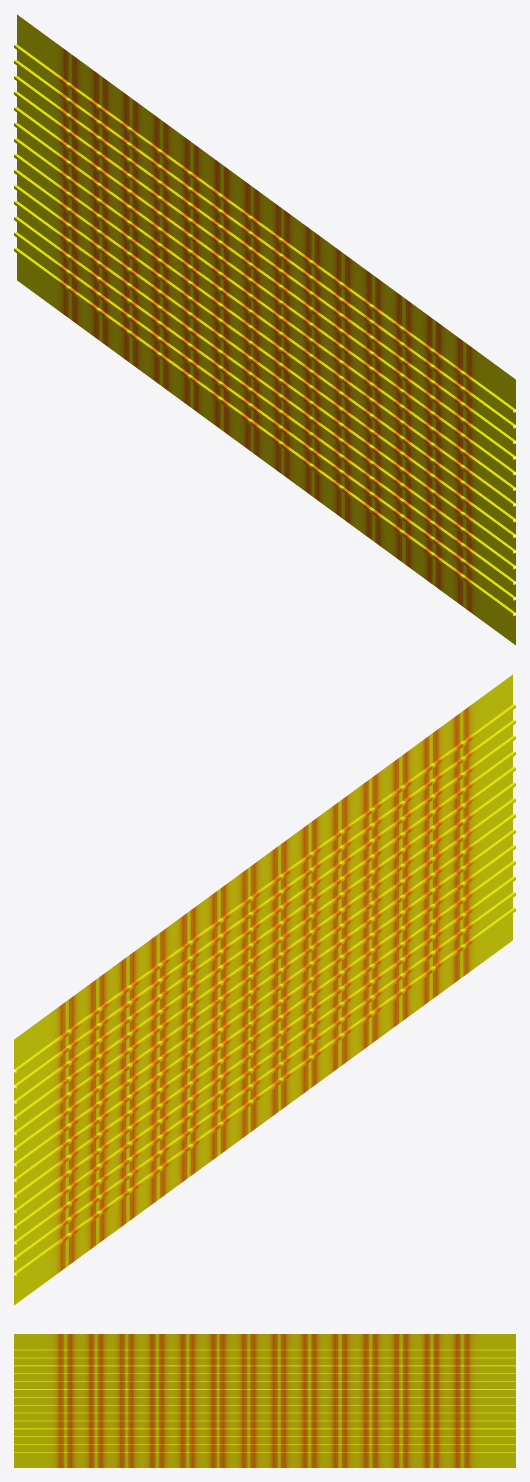
The model's file is RB_Walls_2_2.fbx.
3 renders of one model, top to bottom at view 1: azimuth 30°, elevation 25°; view 2: azimuth 150°, elevation 25°; view 3: azimuth 270°, elevation 25°, orthographic. The views are drawn at different scales.
Visible parts, largest first — view 1: beam_0.5x2_Cube.366_beam_0.5x2_Cube.007; view 2: beam_0.5x2_Cube.366_beam_0.5x2_Cube.007; view 3: beam_0.5x2_Cube.366_beam_0.5x2_Cube.007.
Part boxes in pixels (x1,y1,x2,y2): beam_0.5x2_Cube.366_beam_0.5x2_Cube.007: [14, 14, 515, 645]; beam_0.5x2_Cube.366_beam_0.5x2_Cube.007: [14, 674, 515, 1305]; beam_0.5x2_Cube.366_beam_0.5x2_Cube.007: [14, 1334, 515, 1467].
Size of the model in its own units: 3 by 250 by 850.
